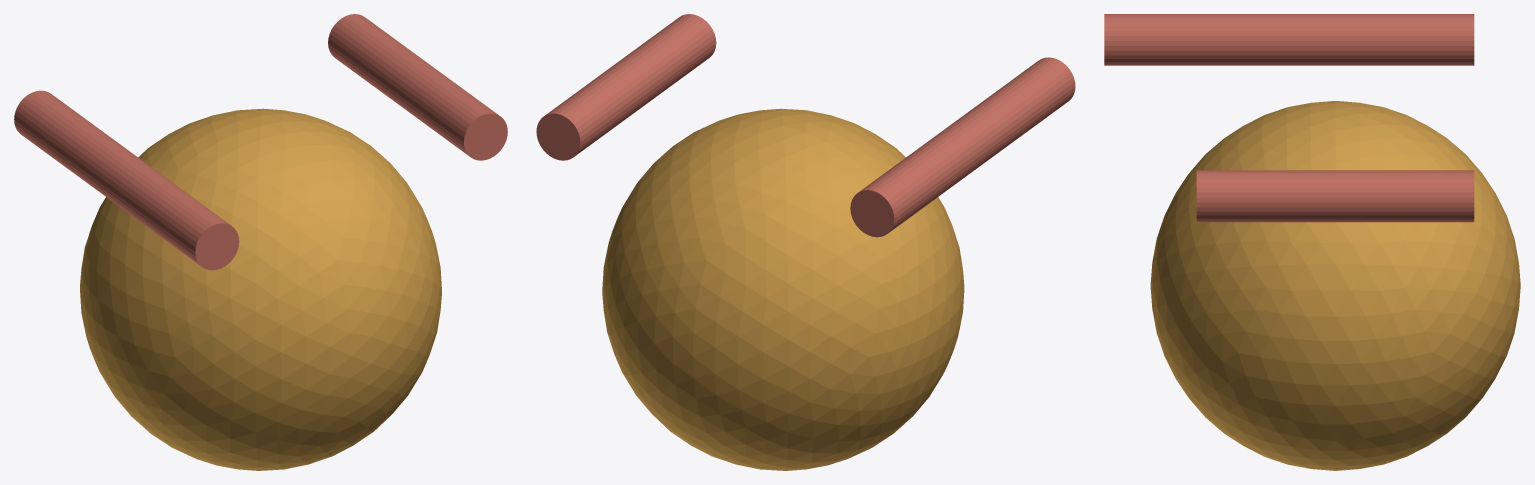
Rendered from snowmen-scene.glb.
3 renders of one model, left to right at view 1: azimuth 30°, elevation 25°; view 2: azimuth 150°, elevation 25°; view 3: azimuth 270°, elevation 25°, orthographic. The views are drawn at different scales.
Parts seen in each view (by area): view 1: body, body segment_0_3, body segment_0_4, body segment_0_0, body segment_0_1, body segment_0_2, hat/head-covering_1_0; view 2: body, body segment_0_1, body segment_0_0, body segment_0_4, body segment_0_3, body segment_0_2, hat/head-covering_1_0; view 3: body, body segment_0_1, body segment_0_0, body segment_0_3, body segment_0_4, body segment_0_2, hat/head-covering_1_0.
Part boxes in pixels (x1,y1,x2,y2): body: (80,108,441,470); body segment_0_3: (373,48,507,160); body segment_0_4: (105,157,239,270); body segment_0_0: (14,90,140,197); body segment_0_1: (328,14,454,123); body segment_0_2: (59,124,183,232); hat/head-covering_1_0: (37,107,151,216); body: (602,108,964,470); body segment_0_1: (536,47,670,160); body segment_0_0: (850,123,984,237); body segment_0_4: (954,57,1075,164); body segment_0_3: (598,14,716,122); body segment_0_2: (904,90,1030,195); hat/head-covering_1_0: (881,108,1006,216); body: (1150,101,1520,470); body segment_0_1: (1289,170,1474,222); body segment_0_0: (1289,14,1474,65); body segment_0_3: (1196,170,1381,222); body segment_0_4: (1104,14,1289,65); body segment_0_2: (1196,14,1381,65); hat/head-covering_1_0: (1243,14,1428,65).
Size of the model in its own units: 0.684 by 0.642 by 0.675.
